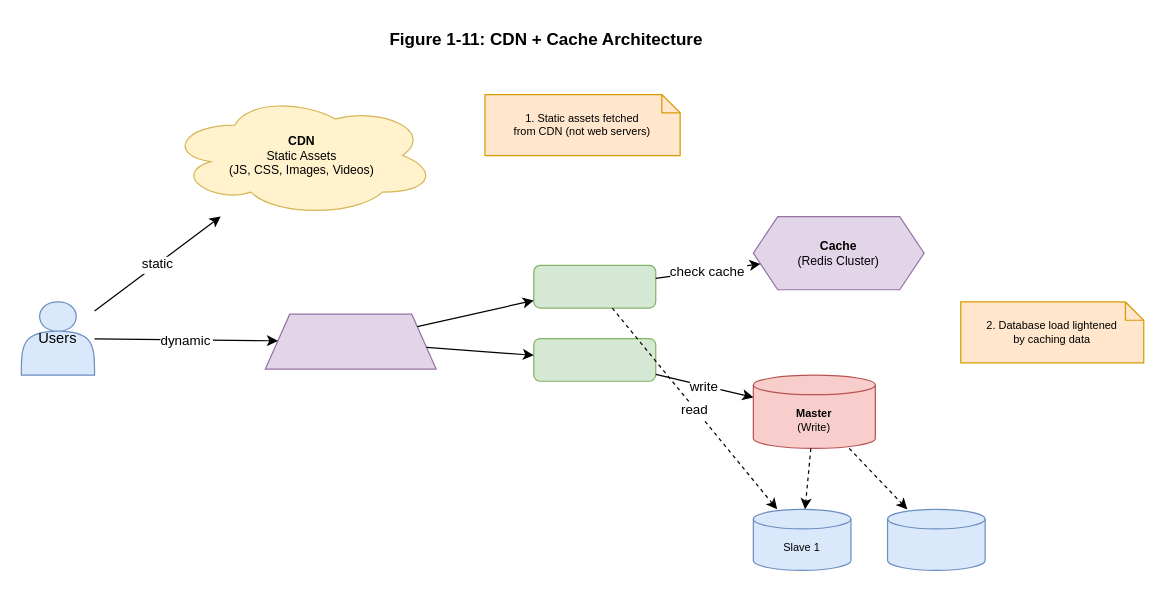
The diagram is 1165 pixels wide and 592 high, and some of its shapes have lost their labels. The box of each missing label's shape, as (x1, y1, x2, y2) in pixels:
Load Balancer: (264, 313, 436, 369)
Slave 2: (886, 508, 985, 570)
Web Server 1: (533, 264, 656, 308)
Web Server 2: (533, 337, 656, 381)
